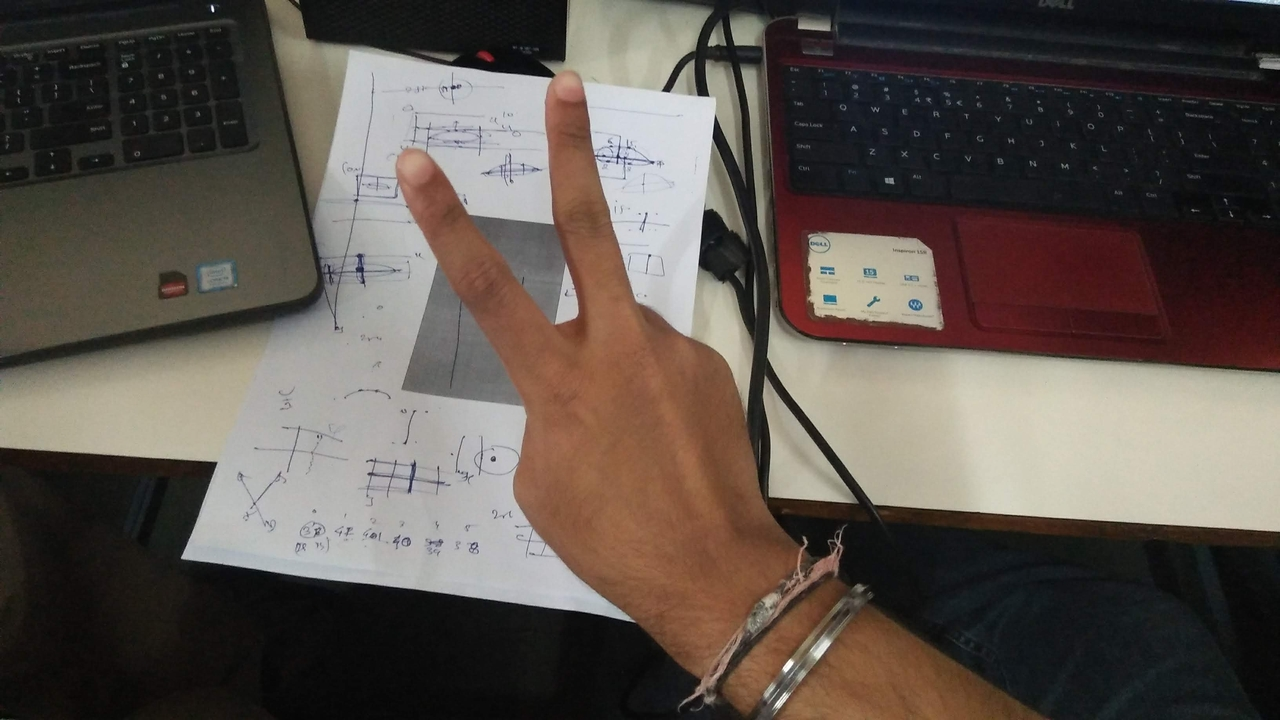fingertip: (386, 146, 446, 198), (540, 58, 592, 108)
